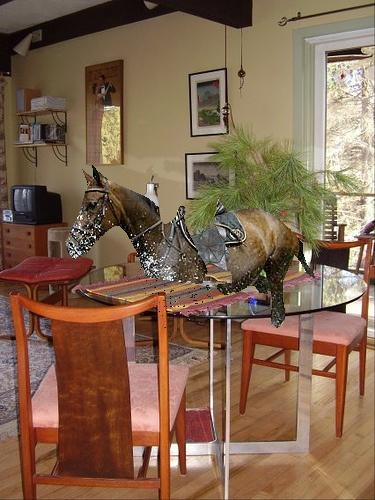tampered: (66, 166, 315, 360)
